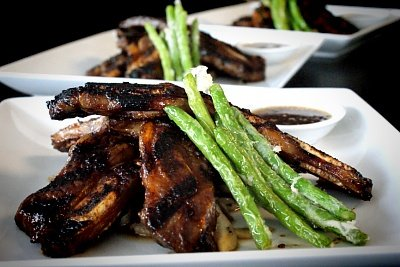soup: (12, 70, 392, 256), (166, 70, 373, 251)
